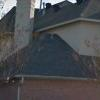Chimney: (8, 1, 40, 48)
